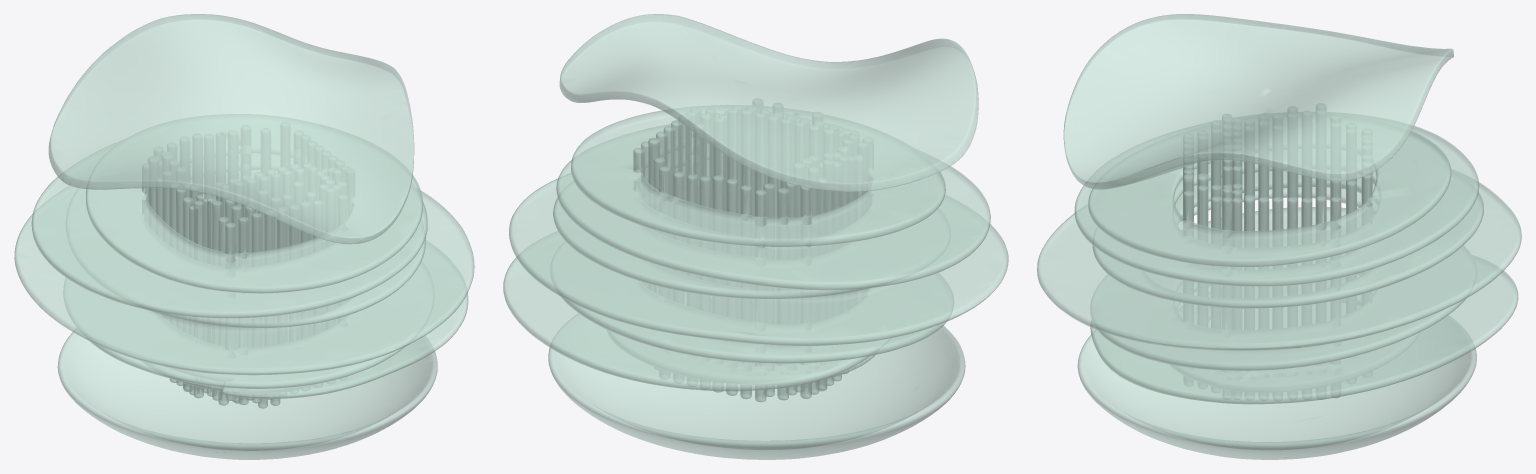
Rendered from assembl-hero-vessel.glb.
3 renders of one model, left to right at view 1: azimuth 30°, elevation 25°; view 2: azimuth 150°, elevation 25°; view 3: azimuth 270°, elevation 25°, orthographic. The views are drawn at different scales.
Parts seen in each view (by area): view 1: material; view 2: material; view 3: material.
Part boxes in pixels (x1=…): material: x1=14, y1=14, x2=474, y2=459; material: x1=503, y1=14, x2=1008, y2=459; material: x1=1037, y1=14, x2=1521, y2=459.
Bounding box in the file's own units: 1.09 × 0.9058 × 1.09.
